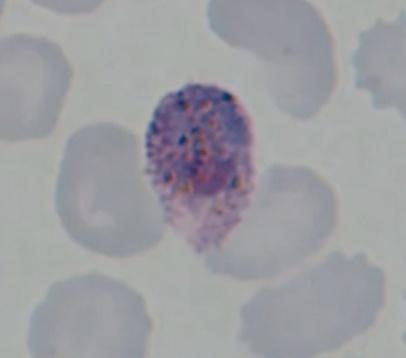Infected: (145, 81, 253, 249)
Uninfected: (200, 161, 336, 280), (240, 249, 387, 358), (206, 0, 336, 119), (53, 121, 164, 258), (27, 273, 150, 358), (0, 33, 72, 143)
